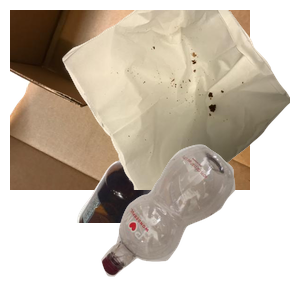cardboard: (10, 10, 250, 190)
glass: (74, 120, 244, 300)
plastic: (99, 142, 300, 300)
trash: (60, 10, 300, 190)
